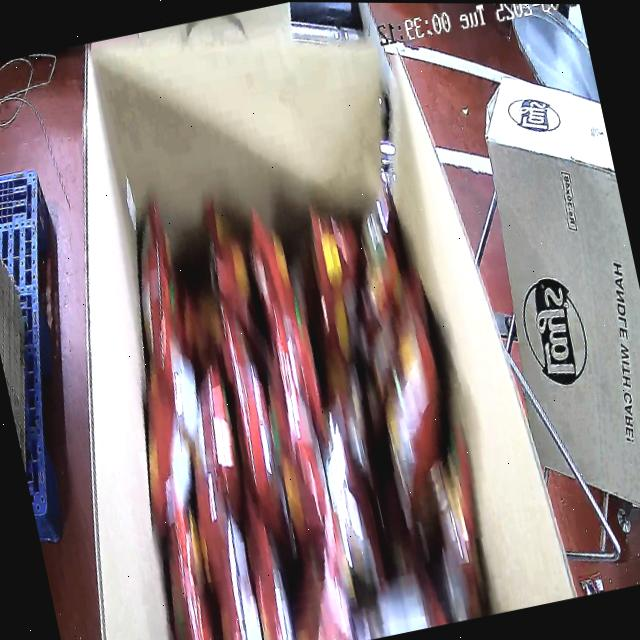MASALA: (66, 141, 500, 640)
